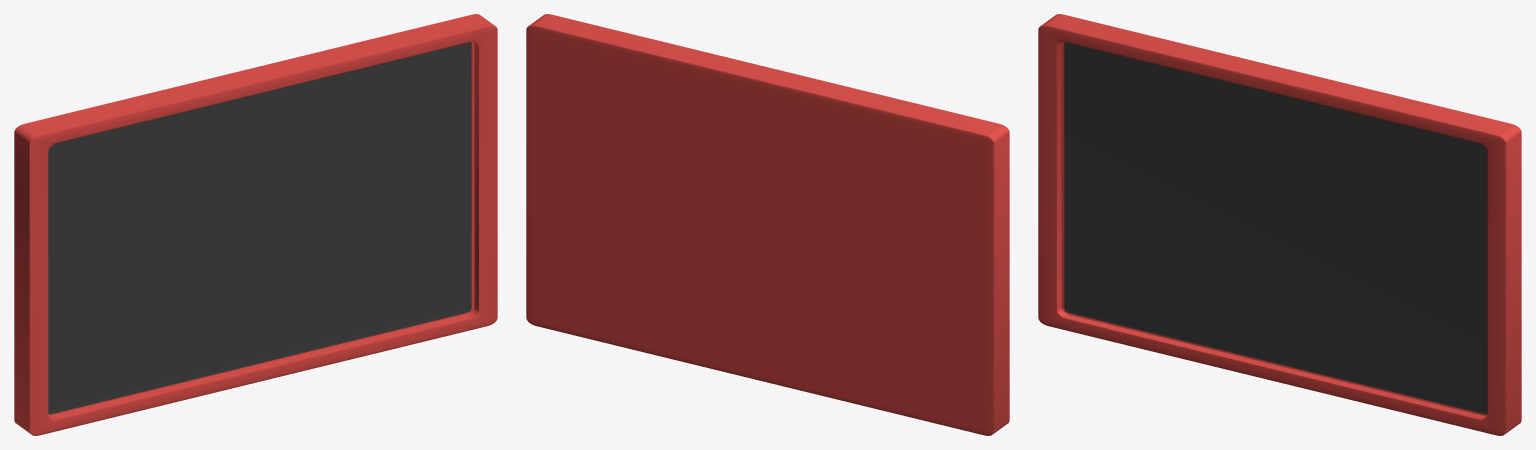
File: Concept art board.fbx
The picture shows the model from 3 angles, left to right: view 1: azimuth 30°, elevation 25°; view 2: azimuth 150°, elevation 25°; view 3: azimuth 330°, elevation 25°; orthographic projection.
Visible parts, largest first — view 1: Cube.002; view 2: Cube.002; view 3: Cube.002.
Part boxes in pixels (<box>): Cube.002: <box>14,14,497,435</box>; Cube.002: <box>526,14,1009,435</box>; Cube.002: <box>1038,14,1521,435</box>.
Size of the model in its own units: 200 by 123 by 11.9.
